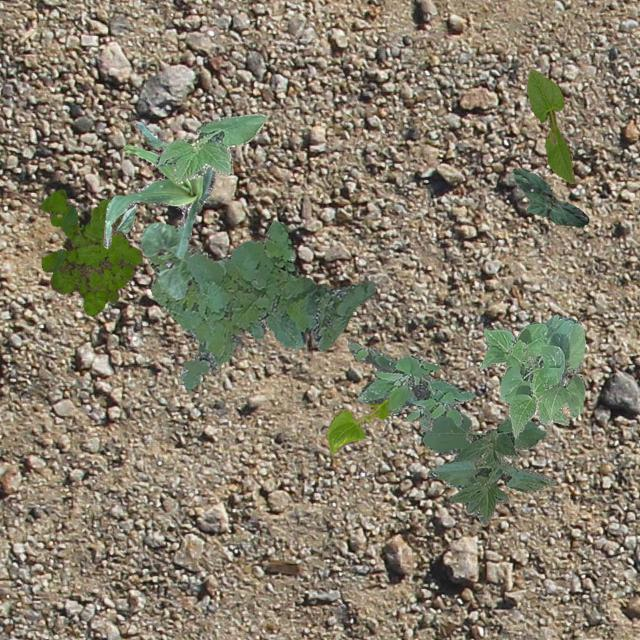crop: (102, 121, 214, 258), (420, 412, 556, 524), (478, 314, 584, 436), (154, 112, 266, 182), (526, 68, 574, 182), (512, 168, 588, 225), (140, 220, 190, 298), (324, 398, 388, 452), (114, 202, 136, 234)
weed: (148, 220, 374, 388), (40, 188, 142, 316), (348, 338, 474, 430)
